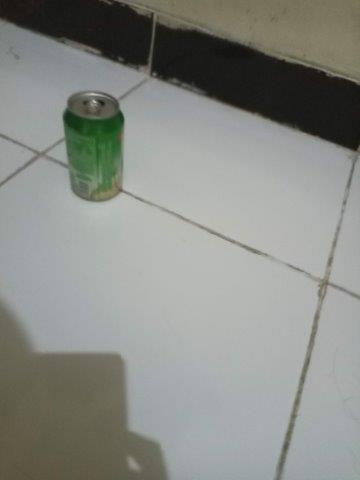kaleng: (63, 90, 125, 202)
